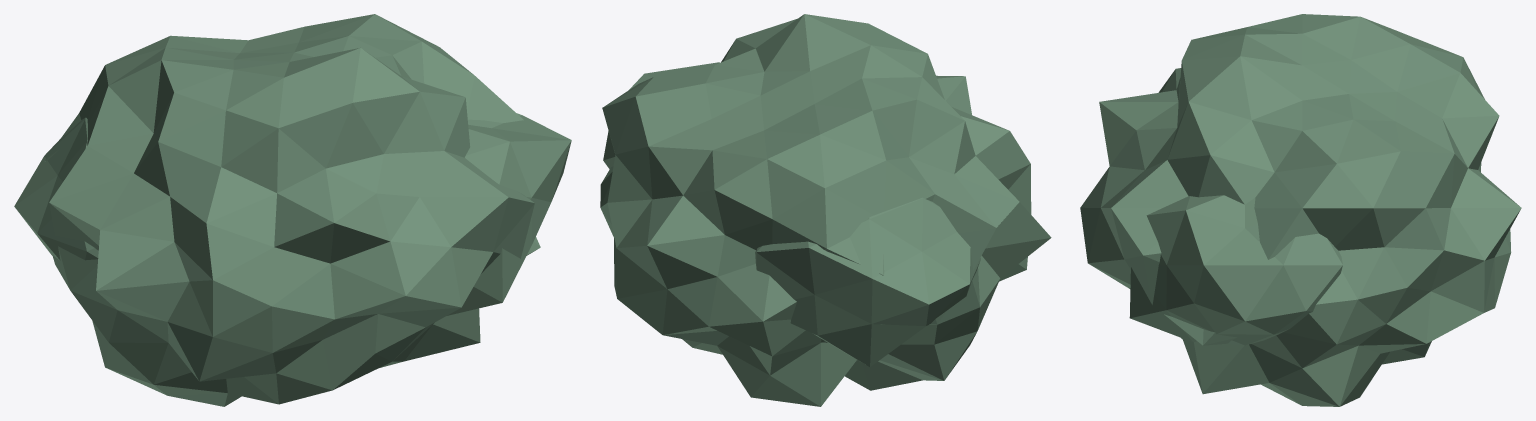
File: mountain-green.glb
3 views of the same model, side by side, from view 1: azimuth 30°, elevation 25°; view 2: azimuth 150°, elevation 25°; view 3: azimuth 270°, elevation 25° (orthographic). The views are drawn at different scales.
Parts seen in each view (by area): view 1: mountain; view 2: mountain; view 3: mountain.
Part boxes in pixels (x1,y1,x2,y2): mountain: (14, 14, 571, 406); mountain: (600, 14, 1051, 406); mountain: (1080, 14, 1521, 406).
Bounding box in the file's own units: 366 × 266 × 311.
